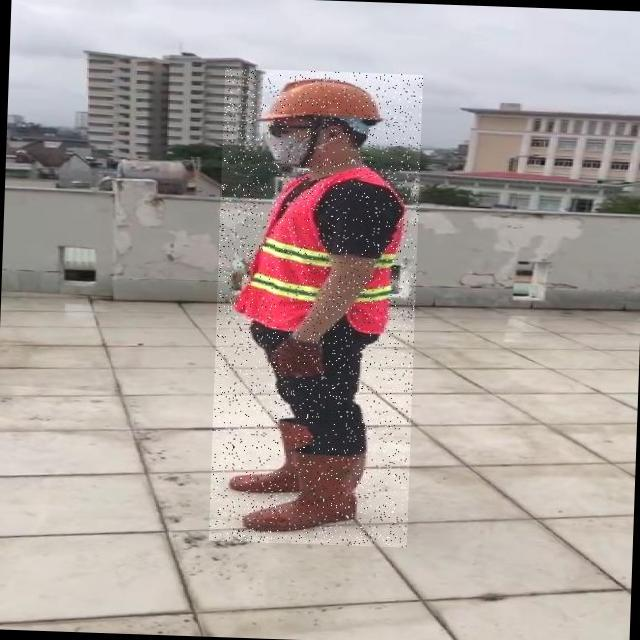Gloves: (268, 336, 325, 378)
Helmet: (253, 72, 386, 127)
Human: (208, 68, 423, 548)
Safety Boot: (243, 448, 368, 536), (227, 416, 316, 493)
Safety Vest: (238, 167, 404, 336)
